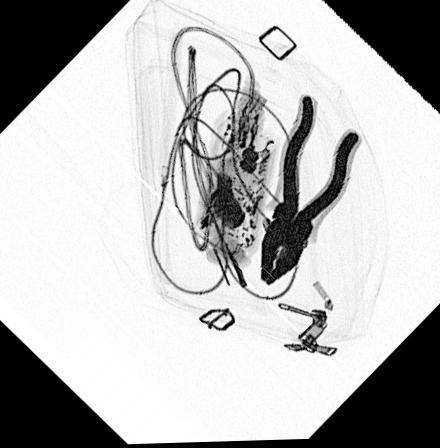Pliers: (255, 92, 357, 291)
